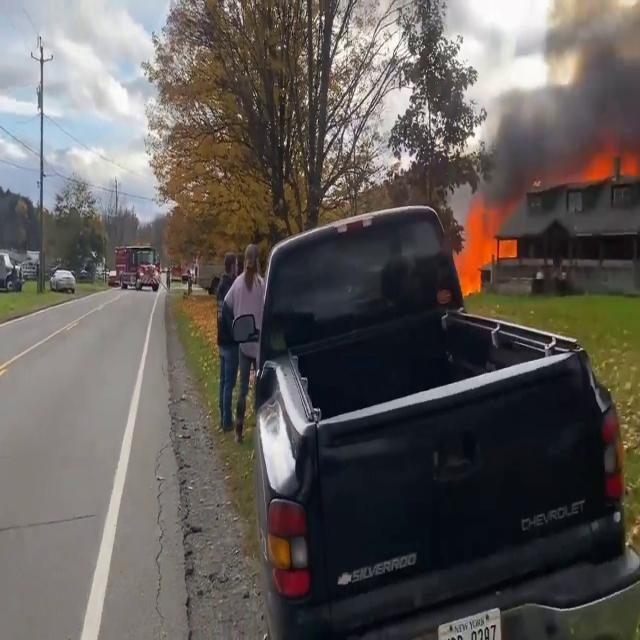Fire: (450, 195, 518, 303)
Smoke: (470, 1, 640, 201)
